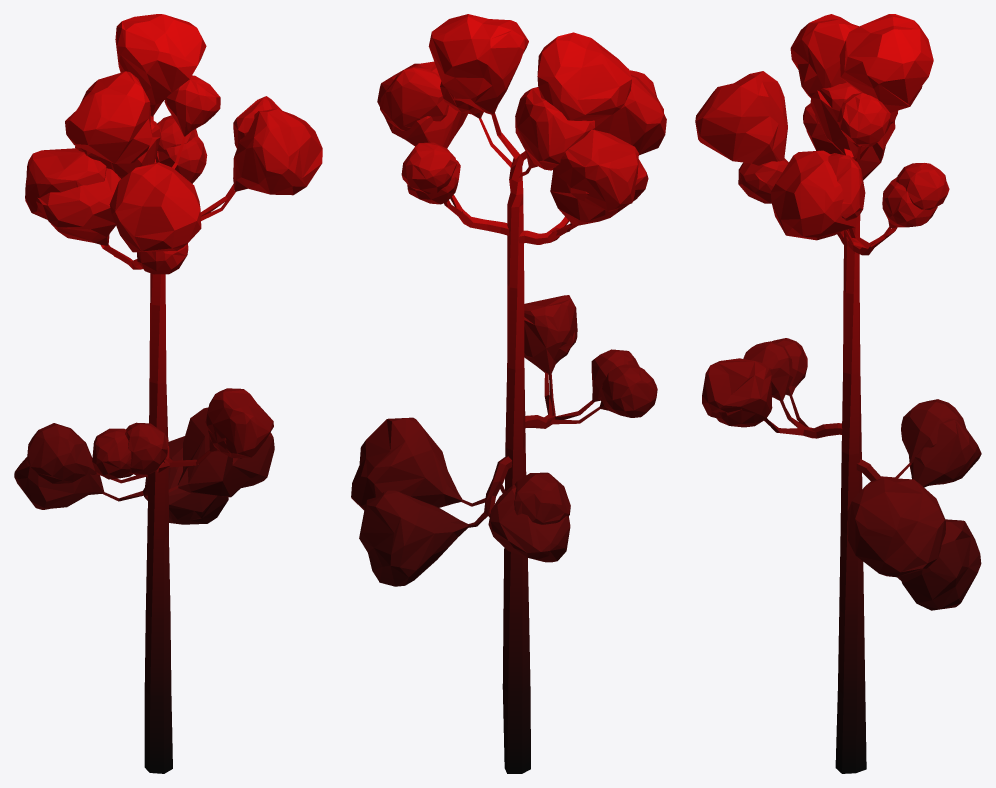
The model's file is TreePine07.fbx.
3 renders of one model, left to right at view 1: azimuth 30°, elevation 25°; view 2: azimuth 150°, elevation 25°; view 3: azimuth 270°, elevation 25°, orthographic. The views are drawn at different scales.
Visible parts, largest first — view 1: TreePine07_LOD0; view 2: TreePine07_LOD0; view 3: TreePine07_LOD0.
Boxes of the visible parts, <box> form: TreePine07_LOD0: <box>14,14,322,773</box>; TreePine07_LOD0: <box>351,14,666,773</box>; TreePine07_LOD0: <box>695,14,981,773</box>.
Size of what is drawn, in the model's own units: 360 by 948 by 327.
